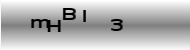3: (108, 17, 123, 32)
B: (61, 6, 77, 21)
H: (46, 18, 62, 33)
l: (81, 8, 88, 24)
m: (29, 16, 50, 30)
